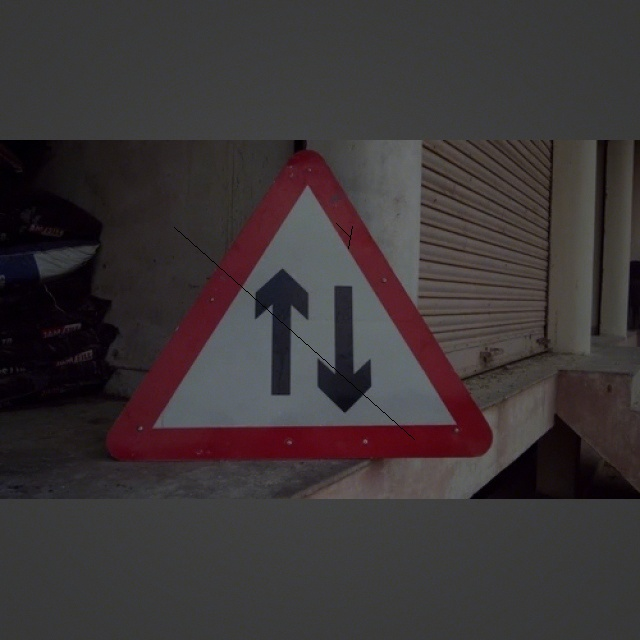Mandatory_Two_Way_Traffic: (142, 146, 487, 473)
